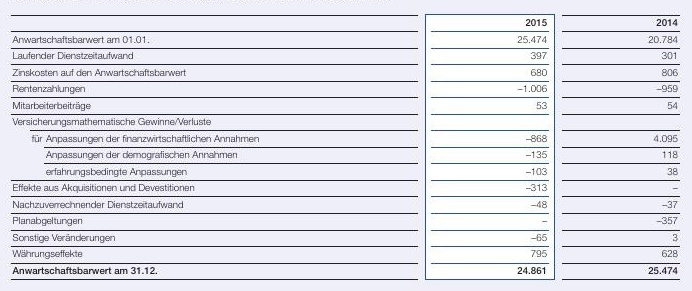table: (0, 0, 692, 291)
